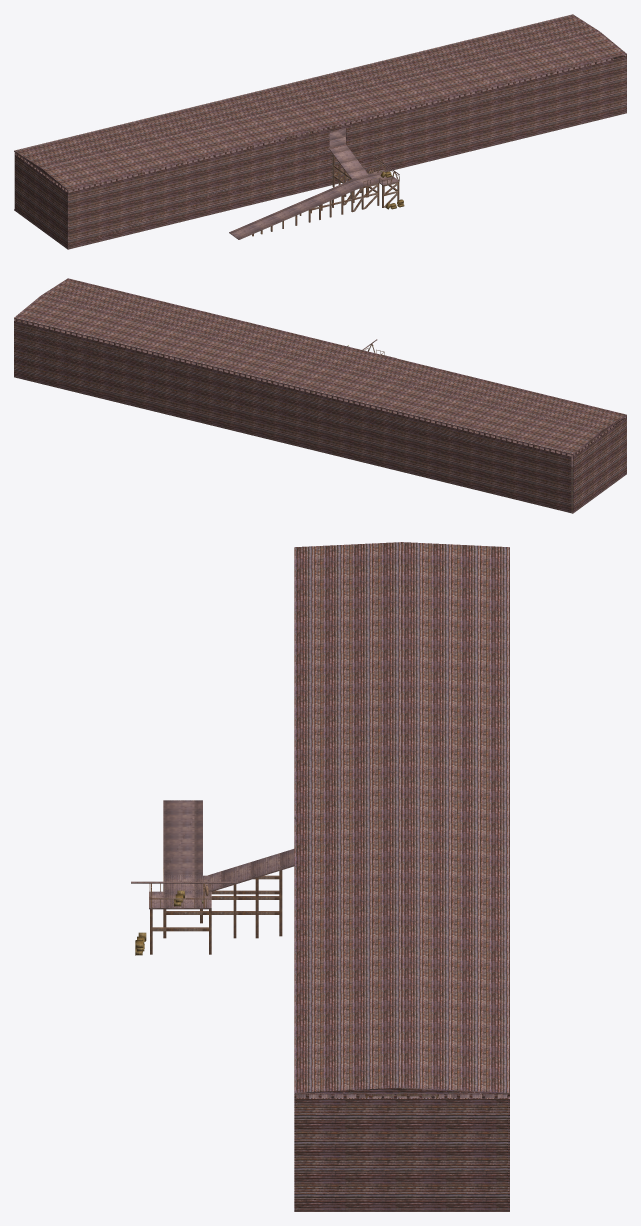
The model's file is arche_de_noe.glb.
The picture shows the model from 3 angles, top to bottom: view 1: azimuth 30°, elevation 25°; view 2: azimuth 150°, elevation 25°; view 3: azimuth 270°, elevation 25°; orthographic projection. The views are drawn at different scales.
Parts seen in each view (by area): view 1: Arche OK, Arche OK_M_3d_bois_vielle_porte_1500x2000_museumtextures_com; view 2: Arche OK; view 3: Arche OK, Arche OK_M_3d_bois_vielle_porte_1500x2000_museumtextures_com.
Part boxes in pixels (x1,y1,x2,y2): Arche OK: (14,14,626,249); Arche OK_M_3d_bois_vielle_porte_1500x2000_museumtextures_com: (34,64,588,236); Arche OK: (14,278,626,513); Arche OK: (131,542,509,1211); Arche OK_M_3d_bois_vielle_porte_1500x2000_museumtextures_com: (149,867,438,1097).
Bounding box in the file's own units: 116 × 12.41 × 34.16.
41 materials, 25 textured.
